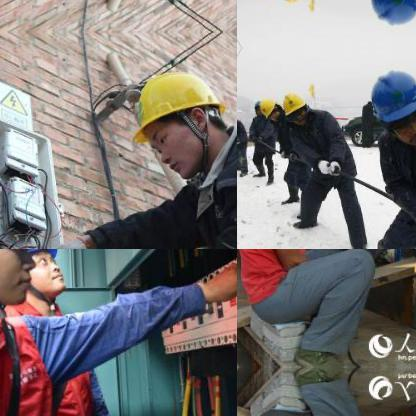Helmet: (122, 60, 232, 174), (370, 66, 415, 146), (25, 249, 65, 297), (369, 0, 415, 27), (278, 86, 309, 122), (258, 95, 278, 118), (277, 0, 311, 8)
